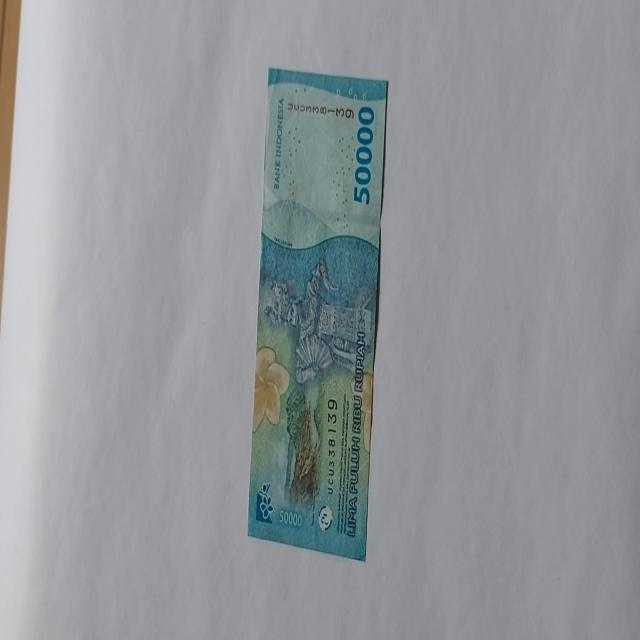lima puluh ribu rupiah: (246, 65, 389, 562)
